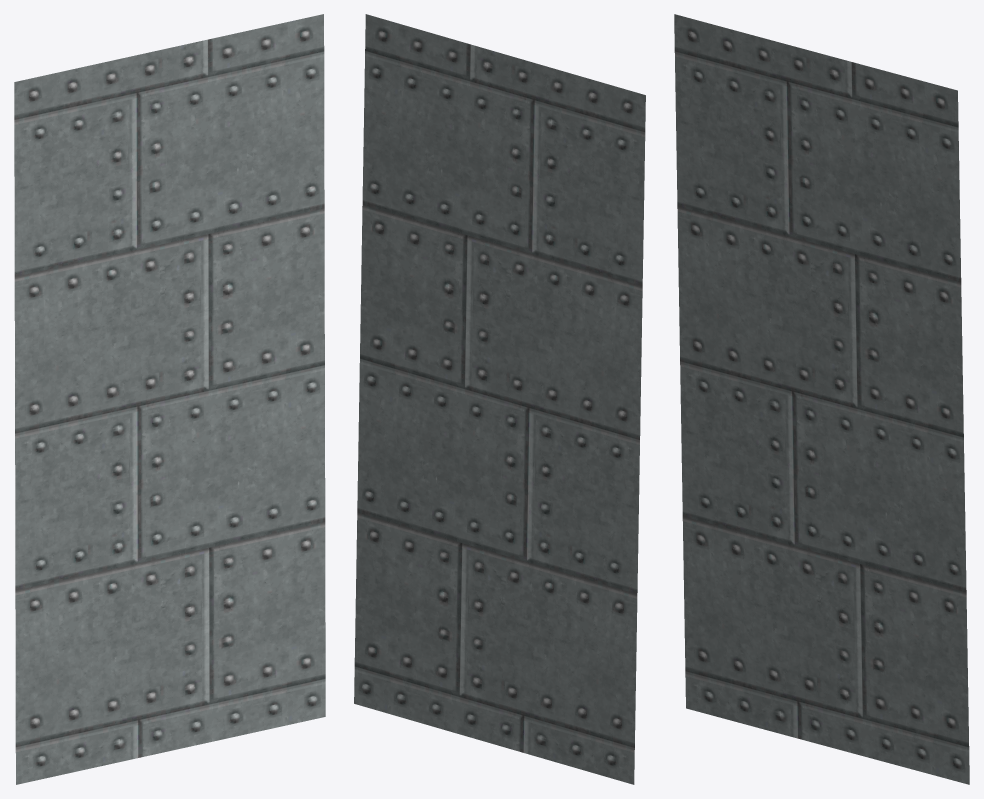
Rendered from WallBlock2.glb.
3 views of the same model, side by side, from view 1: azimuth 30°, elevation 25°; view 2: azimuth 150°, elevation 25°; view 3: azimuth 330°, elevation 25° (orthographic). The views are drawn at different scales.
Parts seen in each view (by area): view 1: BattleShipKillerBossRoom.001; view 2: BattleShipKillerBossRoom.001; view 3: BattleShipKillerBossRoom.001.
Boxes of the visible parts, x1,y1,x2,y2 form: BattleShipKillerBossRoom.001: (14,14,325,784); BattleShipKillerBossRoom.001: (354,14,645,784); BattleShipKillerBossRoom.001: (674,14,969,784).
Bounding box in the file's own units: 2.3 × 5.11 × 0.2061.
1 material, 1 textured.
